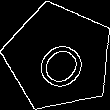O_NE: (25, 23, 92, 90)
